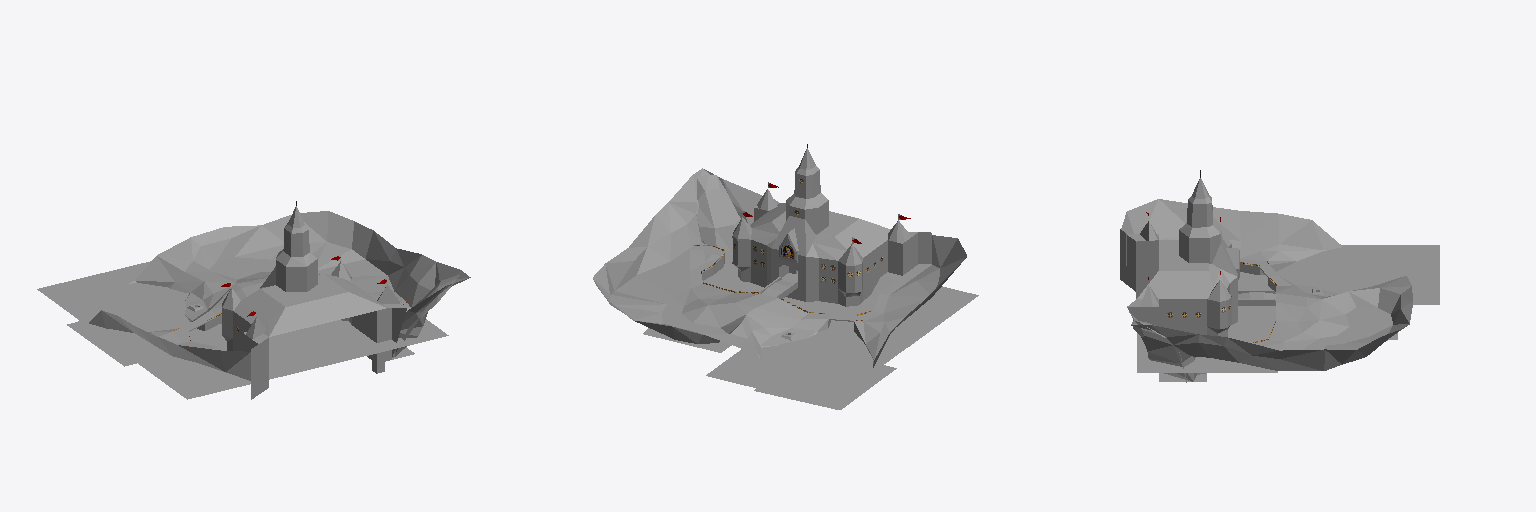
3 views of the same model, side by side, from view 1: azimuth 30°, elevation 25°; view 2: azimuth 150°, elevation 25°; view 3: azimuth 270°, elevation 25° (orthographic).
Parts seen in each view (by area): view 1: Shape_IndexedFaceSet_137_Shape_IndexedFaceSet.259, Shape_IndexedFaceSet_038_Shape_IndexedFaceSet.160, Shape_IndexedFaceSet_012_Shape_IndexedFaceSet.134, Shape_IndexedFaceSet_017_Shape_IndexedFaceSet.139, Shape_IndexedFaceSet_022_Shape_IndexedFaceSet.144, Shape_IndexedFaceSet_023_Shape_IndexedFaceSet.145, Shape_IndexedFaceSet_071_Shape_IndexedFaceSet.193, Shape_IndexedFaceSet_034_Shape_IndexedFaceSet.156, Shape_IndexedFaceSet_030_Shape_IndexedFaceSet.152, Shape_IndexedFaceSet_026_Shape_IndexedFaceSet.148, Shape_IndexedFaceSet_070_Shape_IndexedFaceSet.192; view 2: Shape_IndexedFaceSet_137_Shape_IndexedFaceSet.259, Shape_IndexedFaceSet_038_Shape_IndexedFaceSet.160, Shape_IndexedFaceSet_017_Shape_IndexedFaceSet.139, Shape_IndexedFaceSet_022_Shape_IndexedFaceSet.144, Shape_IndexedFaceSet_012_Shape_IndexedFaceSet.134, Shape_IndexedFaceSet_023_Shape_IndexedFaceSet.145, Shape_IndexedFaceSet_136_Shape_IndexedFaceSet.258, Shape_IndexedFaceSet_030_Shape_IndexedFaceSet.152, Shape_IndexedFaceSet_071_Shape_IndexedFaceSet.193, Shape_IndexedFaceSet_026_Shape_IndexedFaceSet.148, Shape_IndexedFaceSet_070_Shape_IndexedFaceSet.192, Shape_IndexedFaceSet_034_Shape_IndexedFaceSet.156 (+1 smaller); view 3: Shape_IndexedFaceSet_038_Shape_IndexedFaceSet.160, Shape_IndexedFaceSet_137_Shape_IndexedFaceSet.259, Shape_IndexedFaceSet_012_Shape_IndexedFaceSet.134, Shape_IndexedFaceSet_017_Shape_IndexedFaceSet.139, Shape_IndexedFaceSet_023_Shape_IndexedFaceSet.145, Shape_IndexedFaceSet_022_Shape_IndexedFaceSet.144, Shape_IndexedFaceSet_071_Shape_IndexedFaceSet.193, Shape_IndexedFaceSet_034_Shape_IndexedFaceSet.156, Shape_IndexedFaceSet_030_Shape_IndexedFaceSet.152, Shape_IndexedFaceSet_070_Shape_IndexedFaceSet.192.
Boxes of the visible parts, box(x1,y1,x2,y2) form: Shape_IndexedFaceSet_137_Shape_IndexedFaceSet.259: box(37, 261, 448, 399); Shape_IndexedFaceSet_038_Shape_IndexedFaceSet.160: box(101, 211, 459, 380); Shape_IndexedFaceSet_012_Shape_IndexedFaceSet.134: box(222, 261, 399, 339); Shape_IndexedFaceSet_017_Shape_IndexedFaceSet.139: box(222, 303, 406, 399); Shape_IndexedFaceSet_022_Shape_IndexedFaceSet.144: box(151, 242, 410, 347); Shape_IndexedFaceSet_023_Shape_IndexedFaceSet.145: box(174, 257, 275, 350); Shape_IndexedFaceSet_071_Shape_IndexedFaceSet.193: box(276, 228, 317, 291); Shape_IndexedFaceSet_034_Shape_IndexedFaceSet.156: box(89, 270, 470, 357); Shape_IndexedFaceSet_030_Shape_IndexedFaceSet.152: box(149, 272, 259, 332); Shape_IndexedFaceSet_026_Shape_IndexedFaceSet.148: box(67, 321, 136, 366); Shape_IndexedFaceSet_070_Shape_IndexedFaceSet.192: box(276, 206, 316, 266); Shape_IndexedFaceSet_137_Shape_IndexedFaceSet.259: box(703, 250, 978, 405); Shape_IndexedFaceSet_038_Shape_IndexedFaceSet.160: box(593, 175, 966, 371); Shape_IndexedFaceSet_017_Shape_IndexedFaceSet.139: box(733, 199, 931, 306); Shape_IndexedFaceSet_022_Shape_IndexedFaceSet.144: box(610, 243, 939, 332); Shape_IndexedFaceSet_012_Shape_IndexedFaceSet.134: box(733, 189, 911, 265); Shape_IndexedFaceSet_023_Shape_IndexedFaceSet.145: box(643, 247, 921, 352); Shape_IndexedFaceSet_136_Shape_IndexedFaceSet.258: box(697, 175, 740, 251); Shape_IndexedFaceSet_030_Shape_IndexedFaceSet.152: box(721, 303, 889, 359); Shape_IndexedFaceSet_071_Shape_IndexedFaceSet.193: box(786, 170, 828, 234); Shape_IndexedFaceSet_026_Shape_IndexedFaceSet.148: box(754, 365, 896, 409); Shape_IndexedFaceSet_070_Shape_IndexedFaceSet.192: box(787, 148, 827, 209); Shape_IndexedFaceSet_034_Shape_IndexedFaceSet.156: box(693, 168, 888, 367); Shape_IndexedFaceSet_038_Shape_IndexedFaceSet.160: box(1121, 199, 1412, 370); Shape_IndexedFaceSet_137_Shape_IndexedFaceSet.259: box(1137, 245, 1439, 372); Shape_IndexedFaceSet_012_Shape_IndexedFaceSet.134: box(1136, 221, 1238, 306); Shape_IndexedFaceSet_017_Shape_IndexedFaceSet.139: box(1120, 229, 1238, 336); Shape_IndexedFaceSet_023_Shape_IndexedFaceSet.145: box(1240, 259, 1397, 346); Shape_IndexedFaceSet_022_Shape_IndexedFaceSet.144: box(1161, 237, 1392, 350); Shape_IndexedFaceSet_071_Shape_IndexedFaceSet.193: box(1179, 200, 1220, 263); Shape_IndexedFaceSet_034_Shape_IndexedFaceSet.156: box(1131, 220, 1342, 381); Shape_IndexedFaceSet_030_Shape_IndexedFaceSet.152: box(1268, 244, 1355, 313); Shape_IndexedFaceSet_070_Shape_IndexedFaceSet.192: box(1179, 178, 1220, 237).
Size of the model in its own units: 16.44 by 9.96 by 16.22.
Materials: 76 (4 with a texture image).